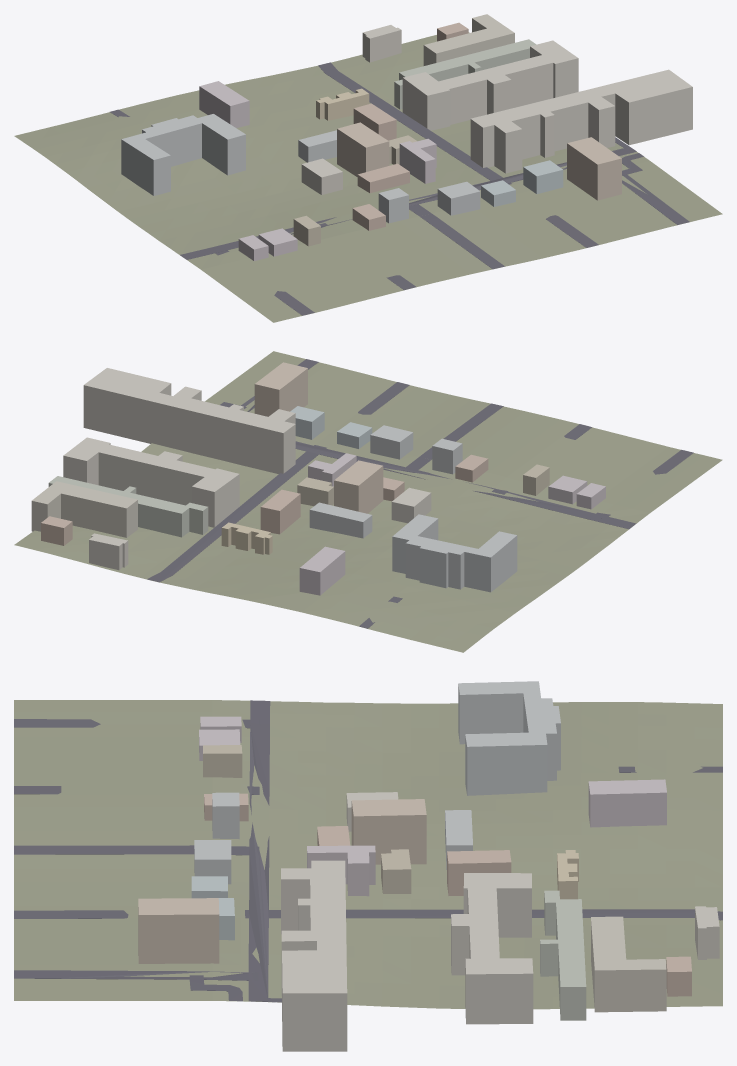
Rendered from chunk_8_9.glb.
3 renders of one model, top to bottom at view 1: azimuth 30°, elevation 25°; view 2: azimuth 150°, elevation 25°; view 3: azimuth 270°, elevation 25°, orthographic. The views are drawn at different scales.
Visible parts, largest first — view 1: geometry_25, geometry_5, geometry_7, geometry_20, geometry_3, geometry_4, geometry_21, geometry_14, geometry_26, geometry_8, geometry_19, geometry_24 (+17 smaller); view 2: geometry_25, geometry_5, geometry_7, geometry_20, geometry_21, geometry_4, geometry_3, geometry_14, geometry_26, geometry_32, geometry_8, geometry_10 (+17 smaller); view 3: geometry_25, geometry_5, geometry_20, geometry_7, geometry_21, geometry_3, geometry_32, geometry_4, geometry_14, geometry_8, geometry_26, geometry_19 (+20 smaller).
Part boxes in pixels (x1,y1,x2,y2): geometry_25: [14, 32, 722, 322]; geometry_5: [470, 69, 692, 173]; geometry_7: [402, 40, 578, 130]; geometry_20: [121, 114, 245, 195]; geometry_3: [567, 137, 621, 200]; geometry_4: [394, 39, 536, 109]; geometry_21: [423, 14, 514, 65]; geometry_14: [337, 122, 389, 176]; geometry_26: [318, 62, 502, 180]; geometry_8: [199, 81, 249, 127]; geometry_19: [399, 138, 436, 183]; geometry_24: [362, 25, 401, 62]; geometry_25: [14, 351, 722, 652]; geometry_5: [83, 368, 295, 474]; geometry_7: [63, 437, 239, 527]; geometry_20: [392, 514, 517, 592]; geometry_21: [31, 481, 137, 537]; geometry_4: [48, 476, 208, 537]; geometry_3: [254, 362, 307, 416]; geometry_14: [334, 460, 383, 513]; geometry_26: [147, 451, 318, 582]; geometry_32: [295, 441, 636, 528]; geometry_8: [299, 546, 345, 595]; geometry_10: [309, 502, 372, 538]; geometry_25: [14, 700, 722, 1009]; geometry_5: [281, 860, 347, 1051]; geometry_20: [458, 681, 560, 795]; geometry_7: [451, 873, 533, 1024]; geometry_21: [591, 916, 666, 1012]; geometry_3: [138, 898, 219, 963]; geometry_32: [248, 700, 270, 1001]; geometry_4: [540, 890, 586, 1020]; geometry_14: [351, 799, 426, 864]; geometry_8: [588, 779, 666, 827]; geometry_26: [268, 909, 722, 920]; geometry_19: [307, 845, 375, 896].
Size of the model in its own units: 288 by 24.29 by 250.
